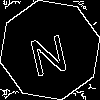N: (25, 25, 71, 77)
